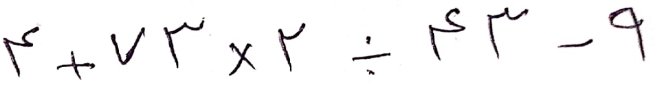character: (162, 15, 206, 69), (486, 5, 529, 60), (1, 24, 41, 80), (609, 6, 647, 62), (427, 6, 466, 60), (351, 32, 393, 78), (111, 25, 146, 67), (55, 50, 97, 81), (278, 22, 305, 69), (225, 41, 256, 76), (558, 38, 595, 51)
